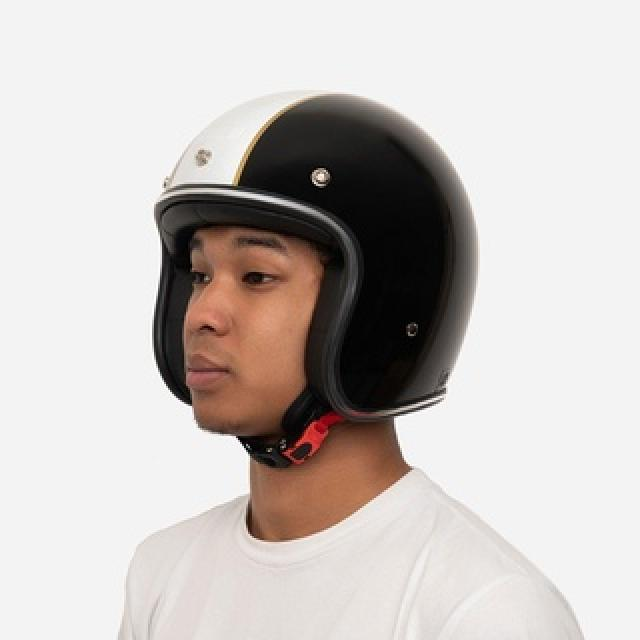helmet: (134, 76, 497, 482)
